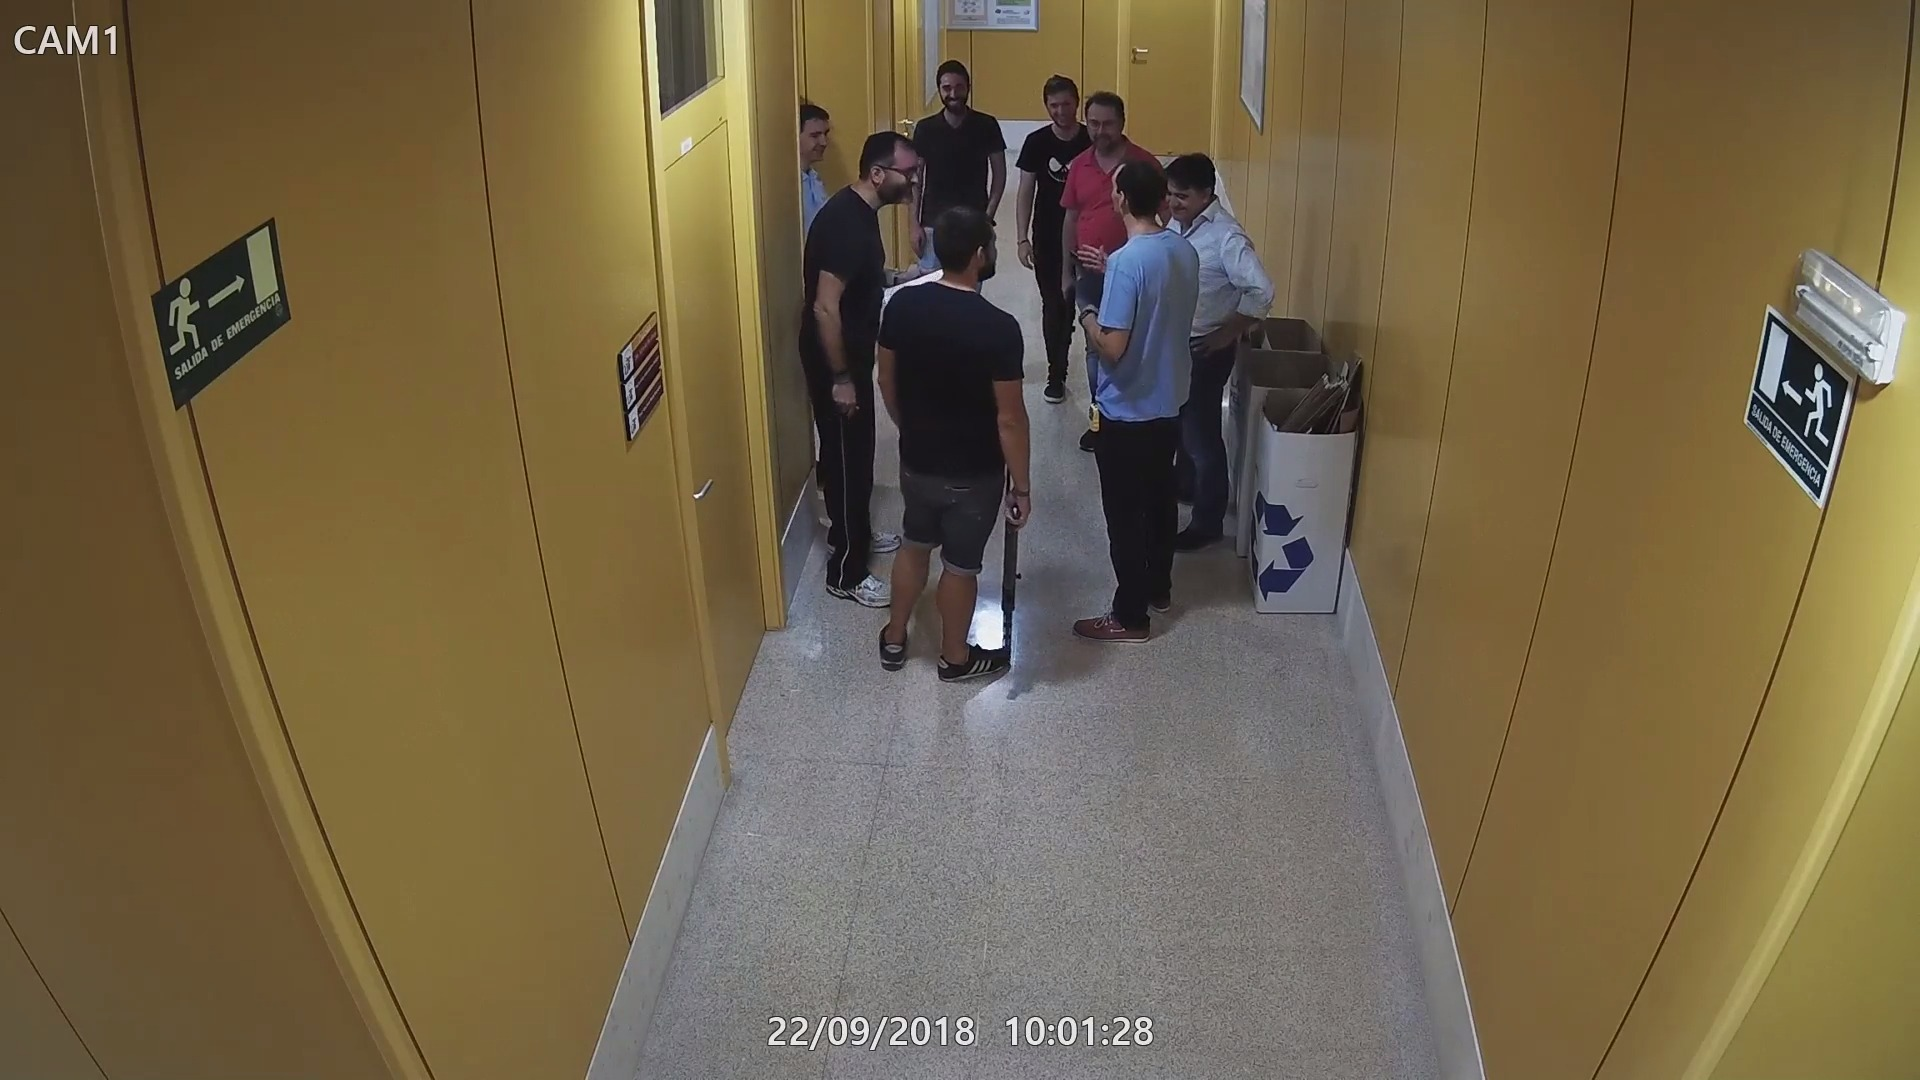Handgun: (1064, 245, 1091, 287)
Short_rifle: (998, 483, 1025, 675), (1054, 280, 1080, 400)
